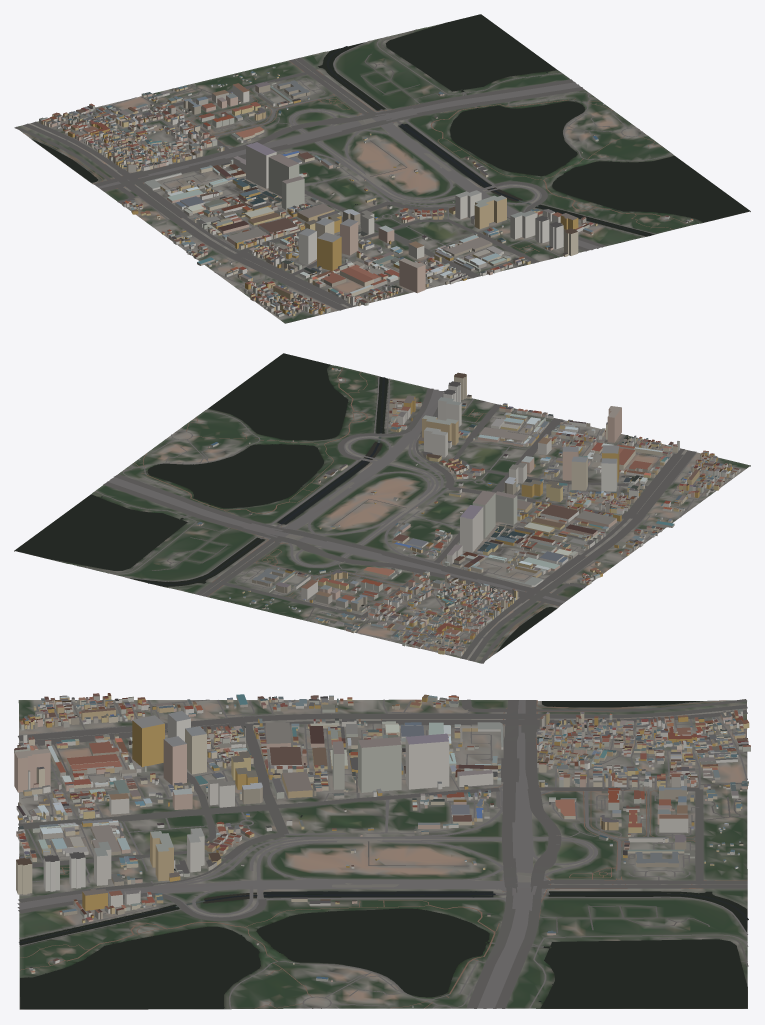
3 views of the same model, one above another, from view 1: azimuth 30°, elevation 25°; view 2: azimuth 150°, elevation 25°; view 3: azimuth 270°, elevation 25° (orthographic). The views are drawn at different scales.
Parts seen in each view (by area): view 1: ground, buildings, water, roads; view 2: ground, buildings, roads, water; view 3: ground, buildings, roads, water.
Boxes of the visible parts, x1=… form: ground: x1=18, y1=23, x2=750, y2=323; buildings: x1=39, y1=66, x2=693, y2=316; water: x1=32, y1=14, x2=749, y2=236; roads: x1=14, y1=29, x2=692, y2=316; ground: x1=14, y1=355, x2=750, y2=662; buildings: x1=138, y1=368, x2=740, y2=656; roads: x1=77, y1=367, x2=733, y2=663; water: x1=15, y1=353, x2=556, y2=651; ground: x1=18, y1=699, x2=747, y2=1009; buildings: x1=14, y1=693, x2=750, y2=1007; roads: x1=17, y1=699, x2=748, y2=1008; water: x1=19, y1=701, x2=748, y2=1008.
Size of the model in its own units: 1416 by 103 by 1419.
